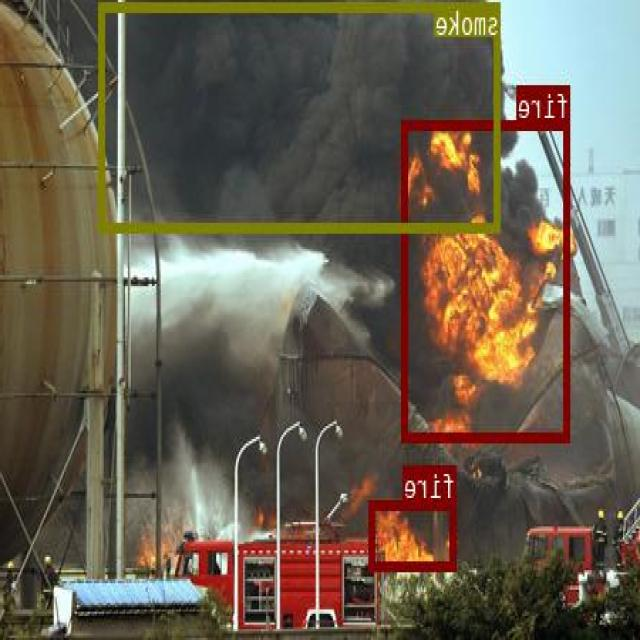fire: (402, 118, 570, 439), (370, 500, 457, 570)
smoke: (100, 2, 501, 230)
